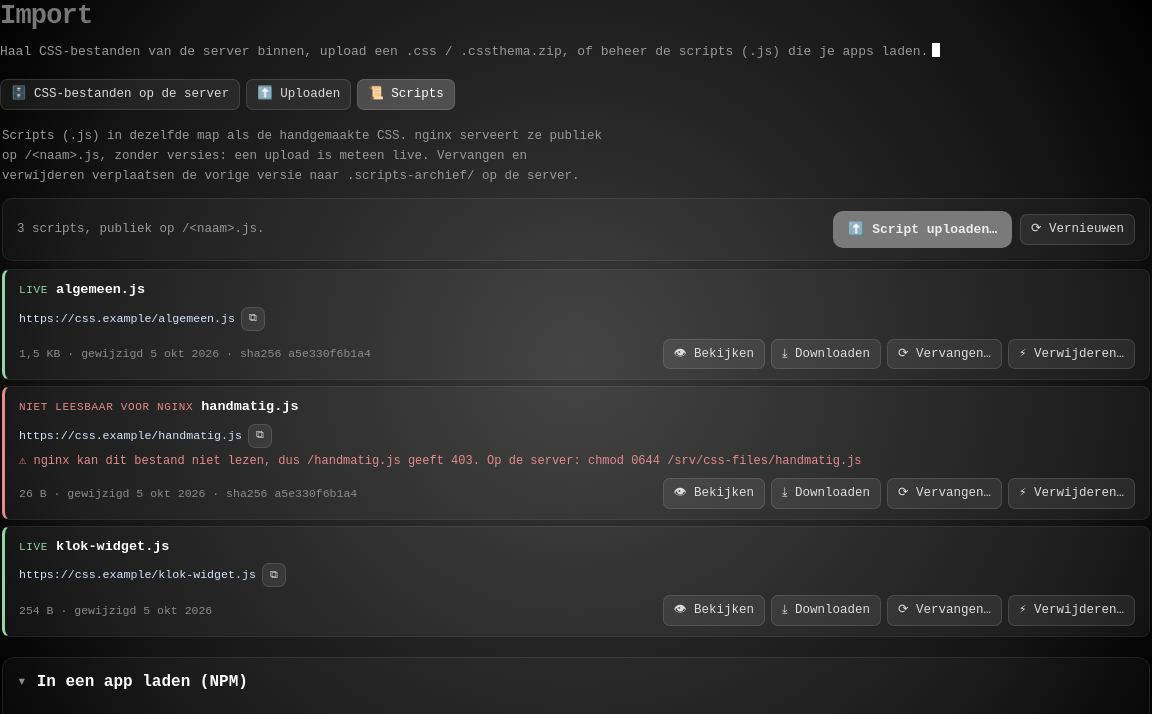
Import: tab Scripts › verwijderen van een script dat al weg is (404): rij weg, rustige melding
What coordinates should you click on to do the following:
click the button with aria-label "algemeen.js verwijderen"
I would click on:
 (1072, 354)
Its box is x1=1008 y1=339 x2=1135 y2=370.
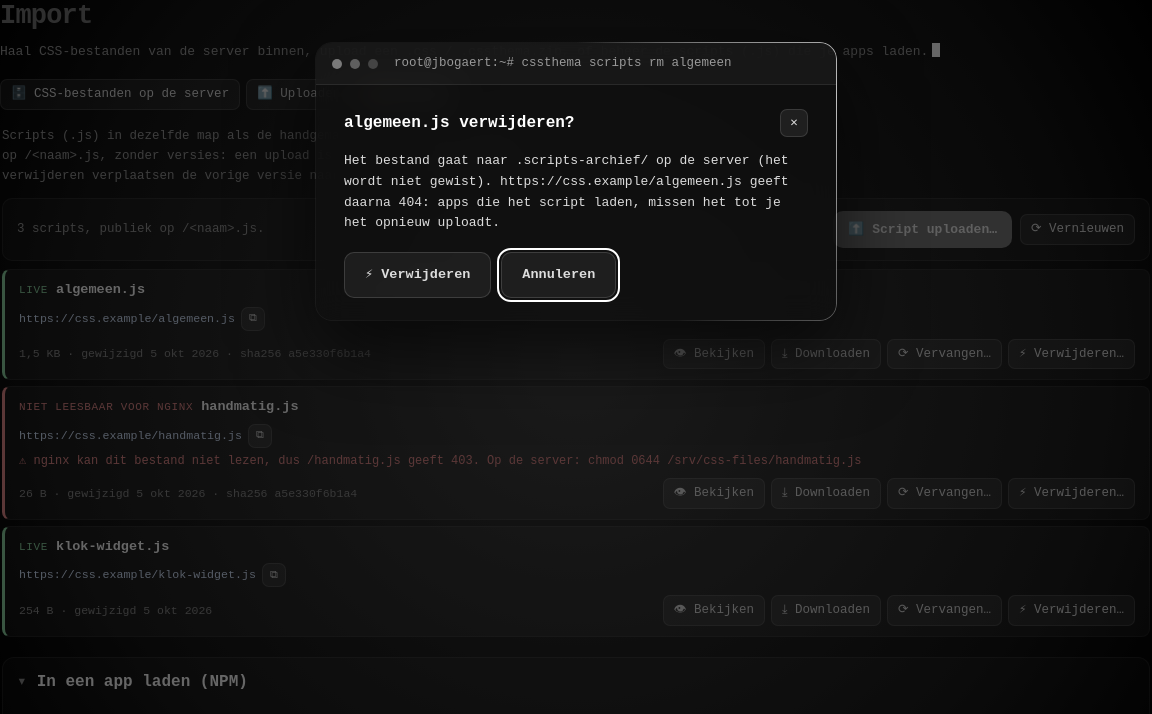
What coordinates should you click on to do the following:
click the button "⚡ Verwijderen"
I would click on:
 (418, 275)
Its box is x1=344 y1=252 x2=491 y2=298.
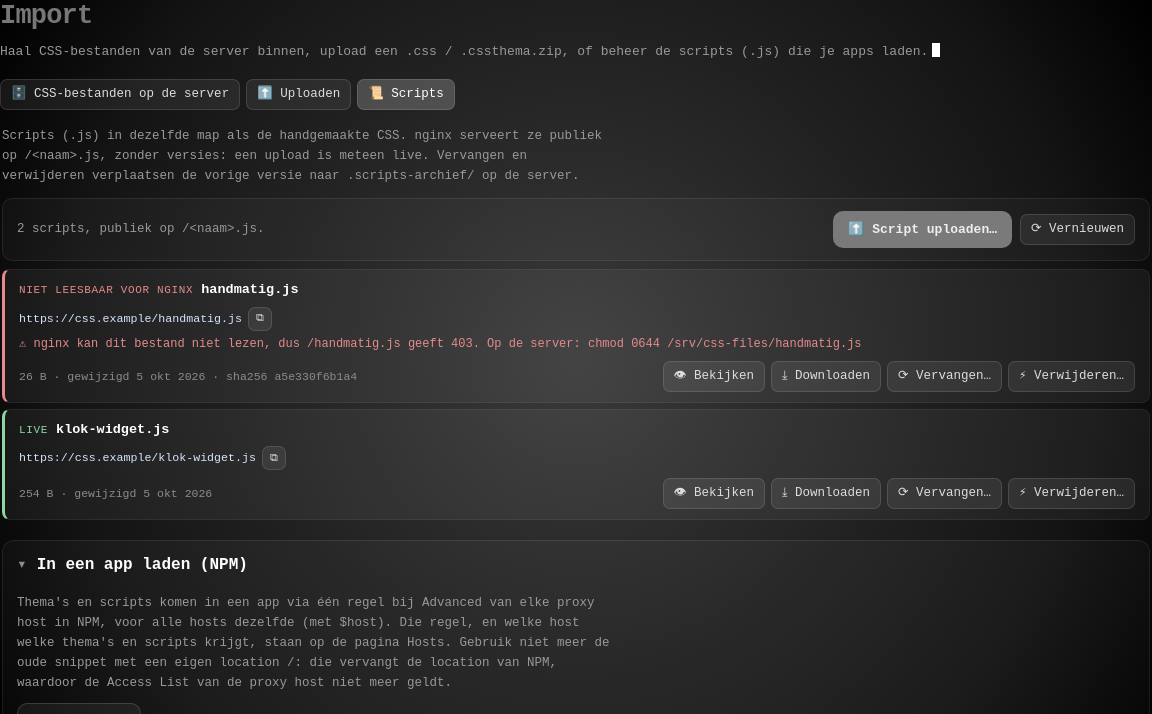
Expected: the heading "2 scripts, publiek op /<naam>.js." is shown, x1=17 y1=220 x2=264 y2=239
